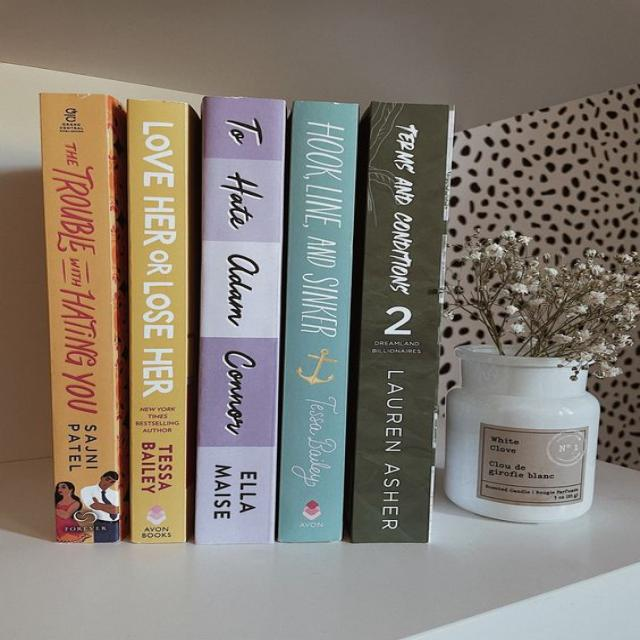book: (344, 101, 453, 542), (194, 97, 286, 544), (41, 94, 126, 542), (277, 101, 356, 540), (127, 101, 197, 542)
flowers: (446, 231, 639, 523)
